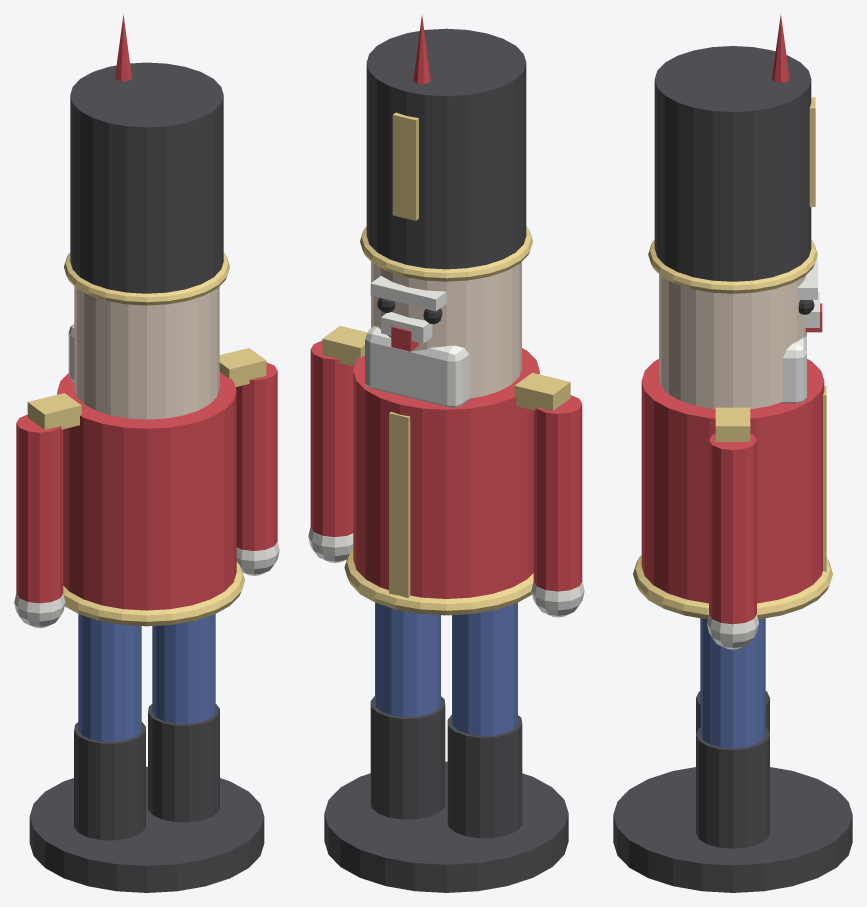
The model's file is nutcracker.glb.
The picture shows the model from 3 angles, left to right: view 1: azimuth 30°, elevation 25°; view 2: azimuth 150°, elevation 25°; view 3: azimuth 270°, elevation 25°; orthographic projection. The views are drawn at different scales.
Visible parts, largest first — view 1: nutcracker; view 2: nutcracker; view 3: nutcracker.
Part boxes in pixels (x1,y1,x2,y2): nutcracker: (14,14,279,892); nutcracker: (308,15,584,892); nutcracker: (613,14,852,892).
Bounding box in the file's own units: 1.4 × 4.2 × 1.1.
